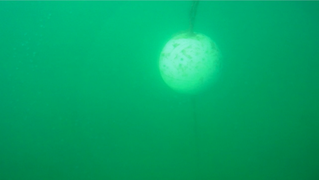buoy: (158, 31, 224, 95)
